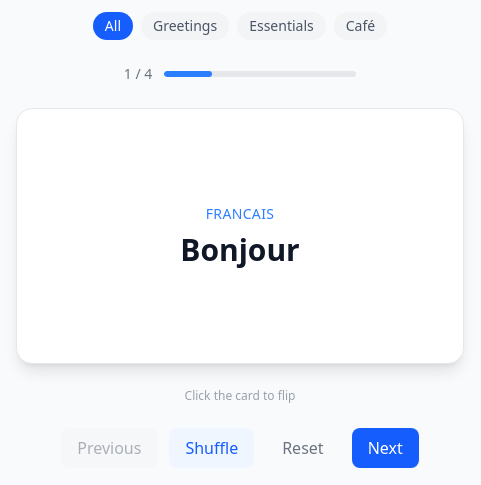
Test case: FlashCardDeck › disables Next button on last card
Click the button "Next".
click(385, 448)  # box [352,428,419,468]
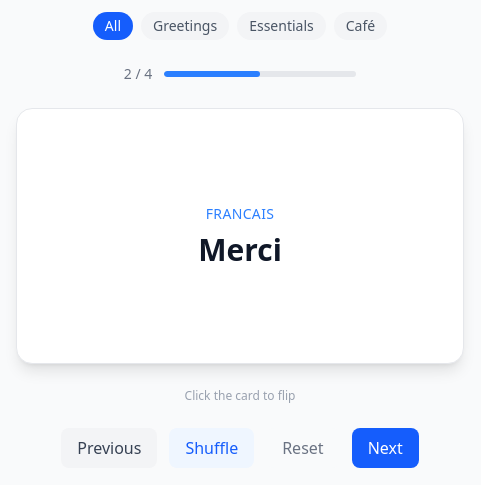
Click the button "Next".
click(385, 448)  # box [352,428,419,468]
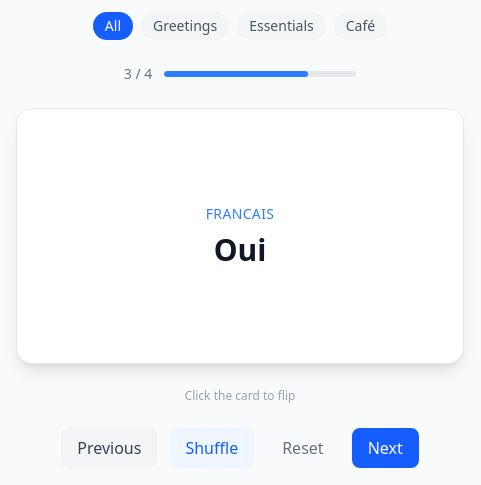
Click the button "Next".
click(385, 448)  # box [352,428,419,468]
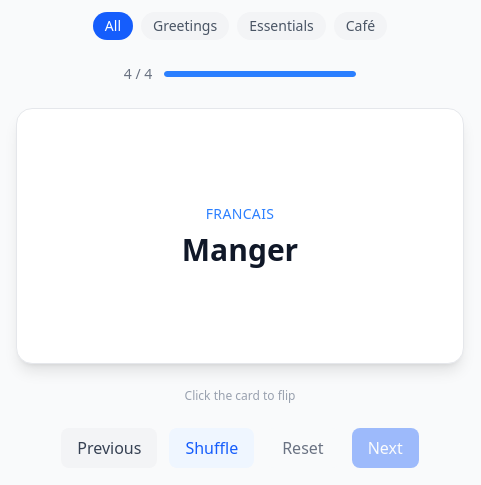
expect the button "Next" is disabled: met, box [352,428,419,468]
